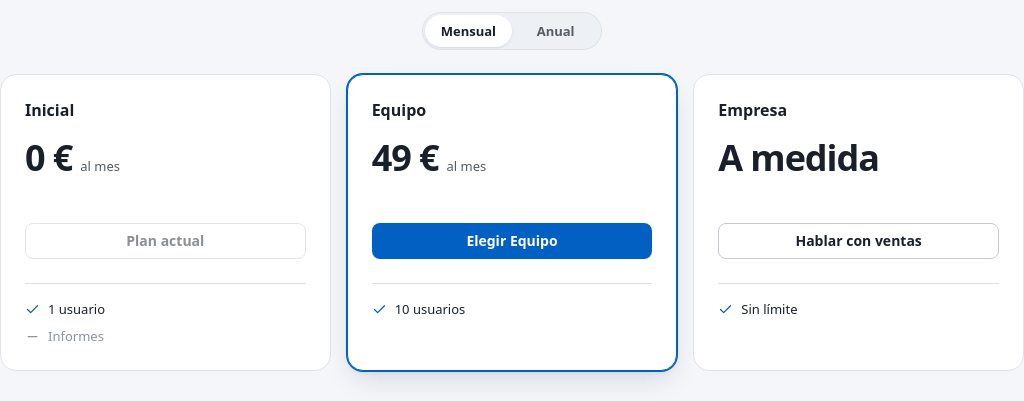
29 TablaPrecios › cambia a pago anual y enseña el equivalente al mes
Later steps or results of the test are not shown.
Expected: the text "49 €" is shown, [372,133,438,182]
Click the radio button labelled "Anual".
click(556, 31)  # box [512,15,599,47]
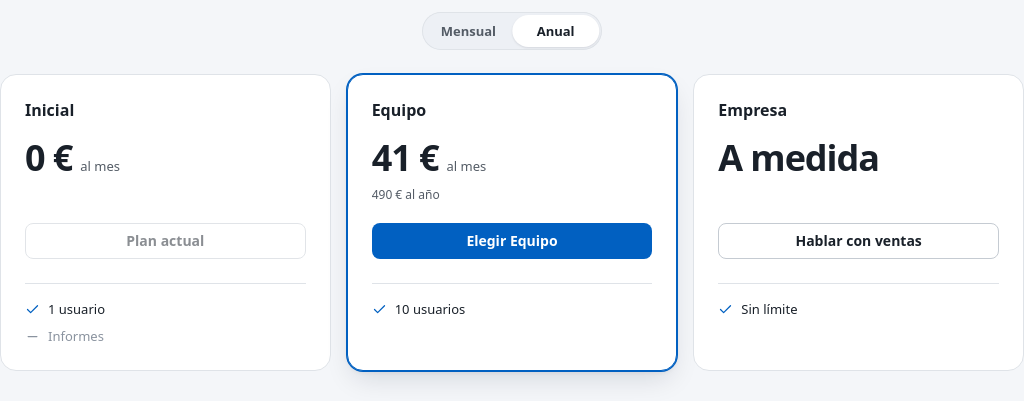
Result: the text "41 €" is shown at [372,133,438,182]
Result: the text "490 € al año" is shown at [372,186,440,203]
